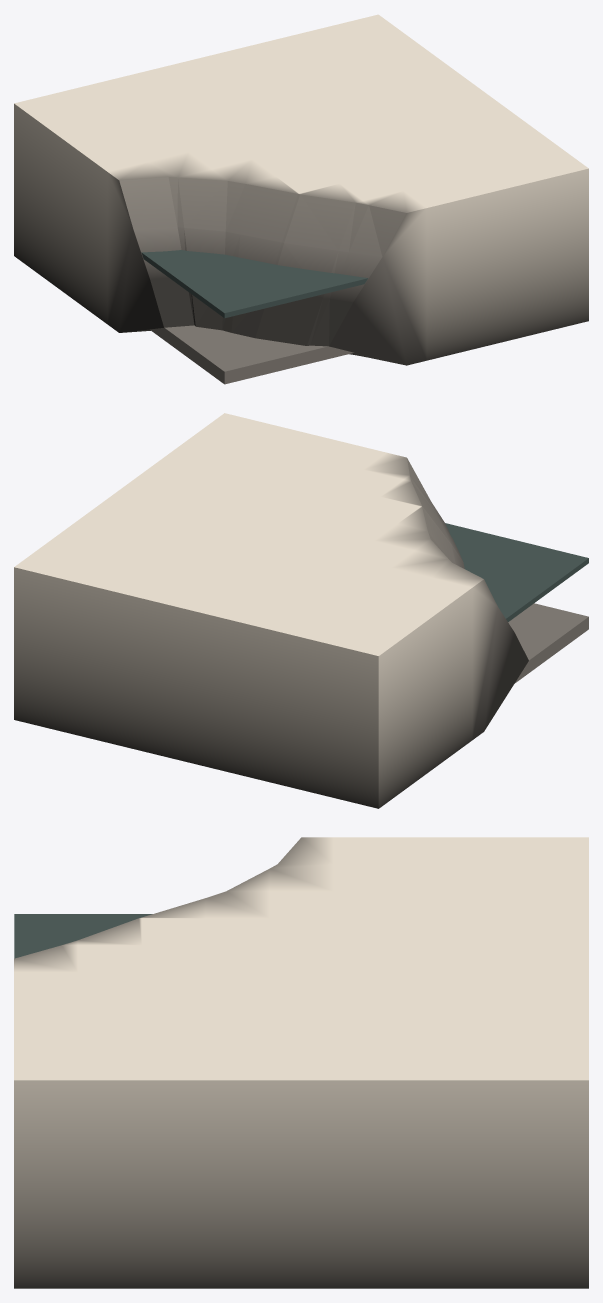
File: SM_VKI_Ground_Stream_XOOO_Q00.fbx
3 views of the same model, one above another, from view 1: azimuth 30°, elevation 25°; view 2: azimuth 150°, elevation 25°; view 3: azimuth 270°, elevation 25° (orthographic). The views are drawn at different scales.
Parts seen in each view (by area): view 1: SM_VKI_Ground_Stream_XOOO_Q00.001; view 2: SM_VKI_Ground_Stream_XOOO_Q00.001; view 3: SM_VKI_Ground_Stream_XOOO_Q00.001.
Part boxes in pixels (x1,y1,x2,y2): SM_VKI_Ground_Stream_XOOO_Q00.001: [14, 14, 588, 384]; SM_VKI_Ground_Stream_XOOO_Q00.001: [14, 413, 588, 808]; SM_VKI_Ground_Stream_XOOO_Q00.001: [14, 837, 588, 1288].
Bounding box in the file's own units: 1.5 × 0.6 × 1.5.
